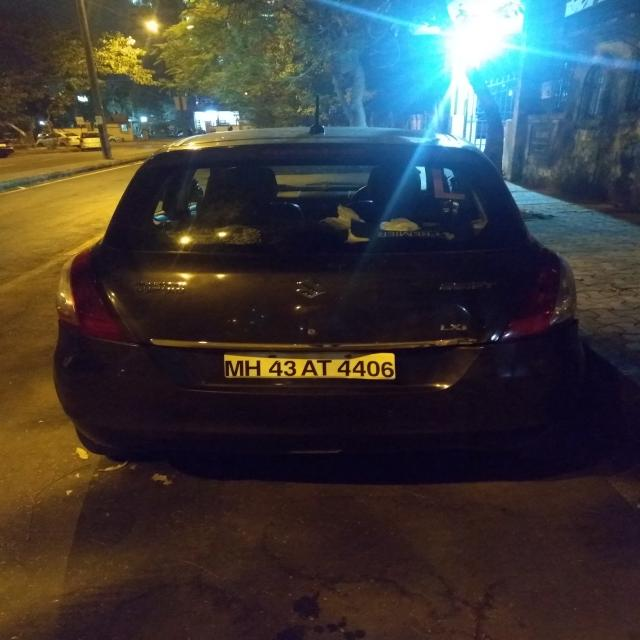Number-Plate: (226, 350, 398, 384), (232, 353, 393, 382)
